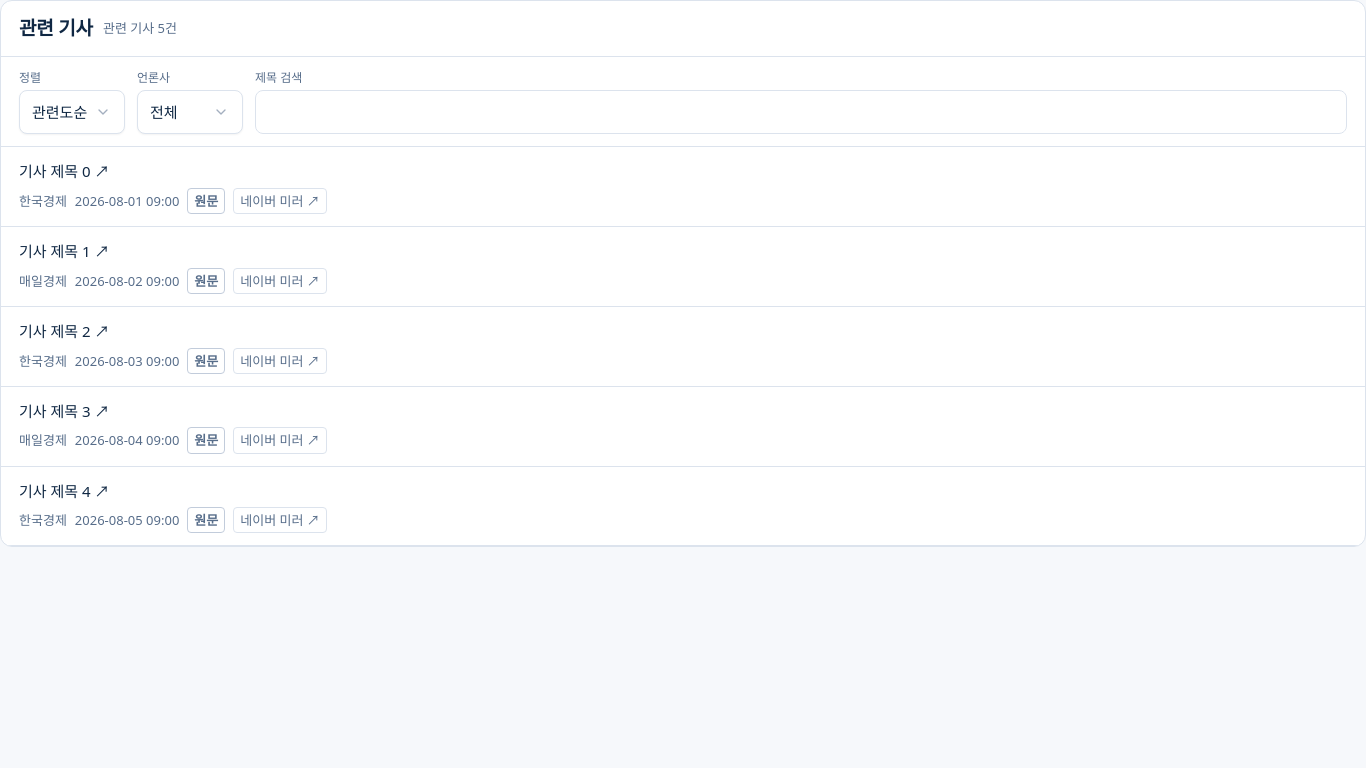
Test: ClusterArticlesList paging and filters › shows a dedicated empty state when a filter matches nothing, not an empty list
Type "존재하지않는단어" into the search field labelled "제목 검색" at (801, 112), box x1=255 y1=90 x2=1347 y2=134
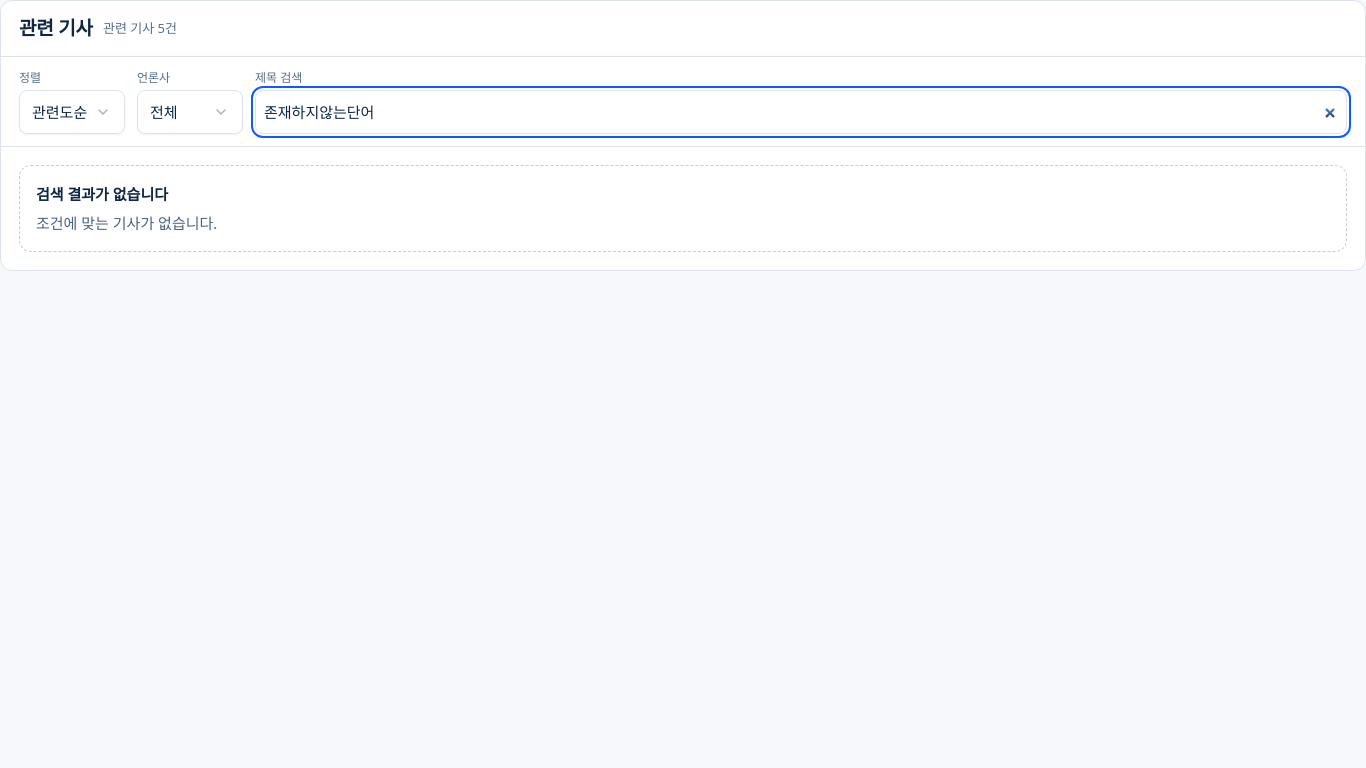
Expected: the list item "기사 제목 0 ↗ 한국경제 2026-08-01 09:00 원문 네이버 미러 ↗" is gone
Expected: the text "조건에 맞는 기사가 없습니다." is shown, x1=36 y1=213 x2=217 y2=233
